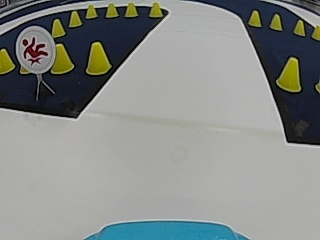cone: (276, 56, 300, 93), (86, 41, 111, 76), (50, 44, 74, 75), (0, 48, 13, 75), (51, 18, 65, 37), (248, 9, 261, 27), (269, 13, 282, 31), (68, 10, 81, 27), (124, 2, 138, 17), (149, 1, 162, 17), (105, 2, 118, 18), (293, 19, 305, 36), (85, 3, 97, 19), (312, 24, 319, 41)
tumble: (20, 30, 52, 66)
